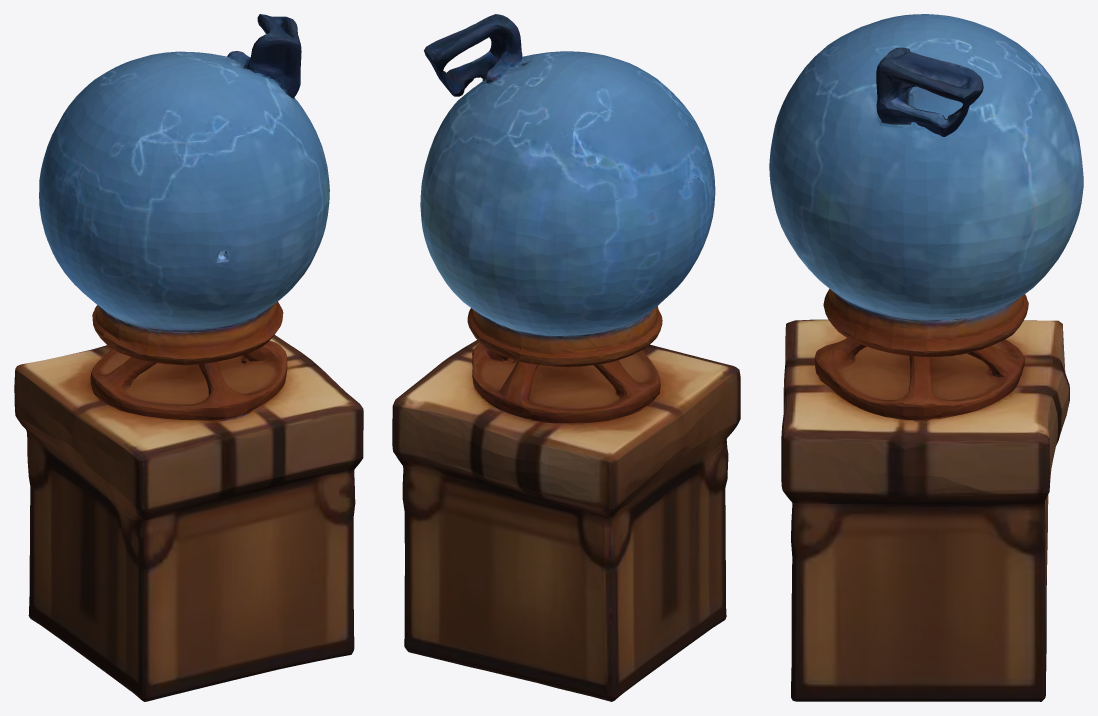
File: crystal_ball.glb
3 renders of one model, left to right at view 1: azimuth 30°, elevation 25°; view 2: azimuth 150°, elevation 25°; view 3: azimuth 270°, elevation 25°, orthographic. The views are drawn at different scales.
Visible parts, largest first — view 1: world; view 2: world; view 3: world.
Part boxes in pixels (<box>): world: <box>14,14,363,701</box>; world: <box>392,14,740,701</box>; world: <box>769,14,1083,701</box>.
Size of the model in its own units: 0.4485 by 0.9998 by 0.4474.
Materials: 1 (1 with a texture image).
